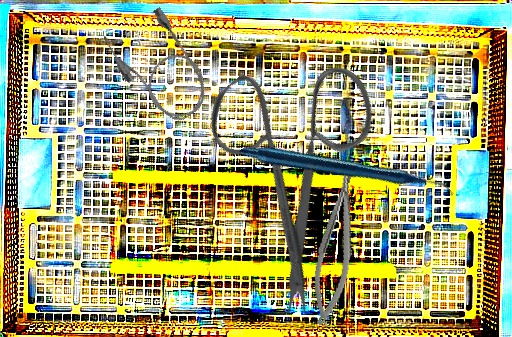Cannula: (98, 0, 220, 135)
Handpiece: (239, 64, 454, 281)
Iris Scissors: (148, 17, 455, 325)
Needle Holder: (302, 160, 372, 329)
